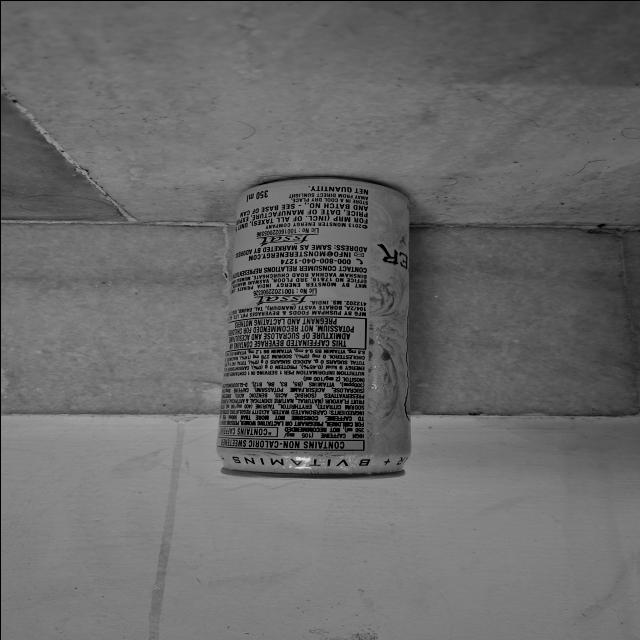White Monster: (205, 175, 412, 492)
